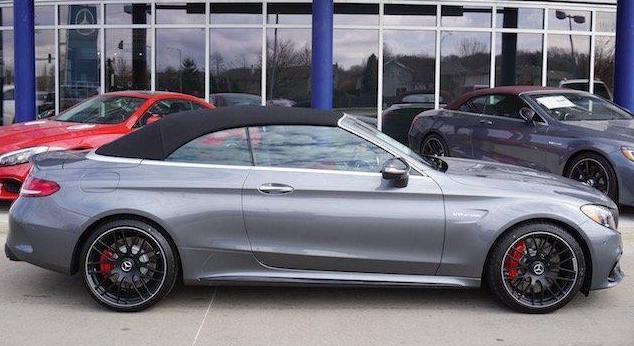C63AMG: (5, 103, 627, 315)
